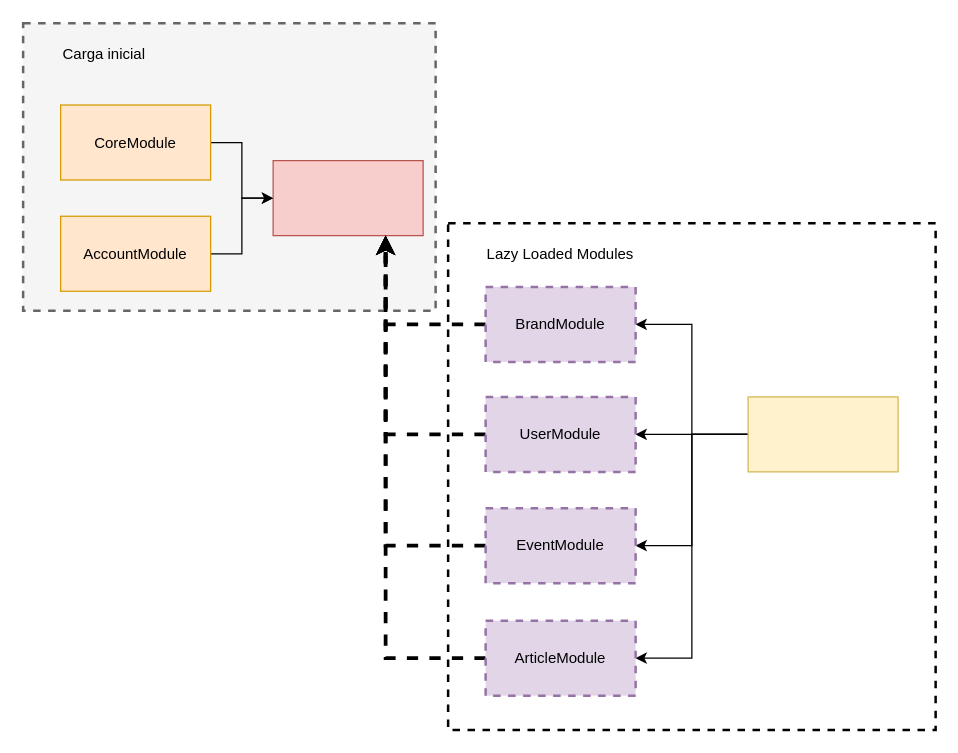
This 958x753 diagram has some shape labels left out. The centre of each missing label's shape, as x and y in pixels:
AppModule: pixel 347 197
SharedModule: pixel 822 434
